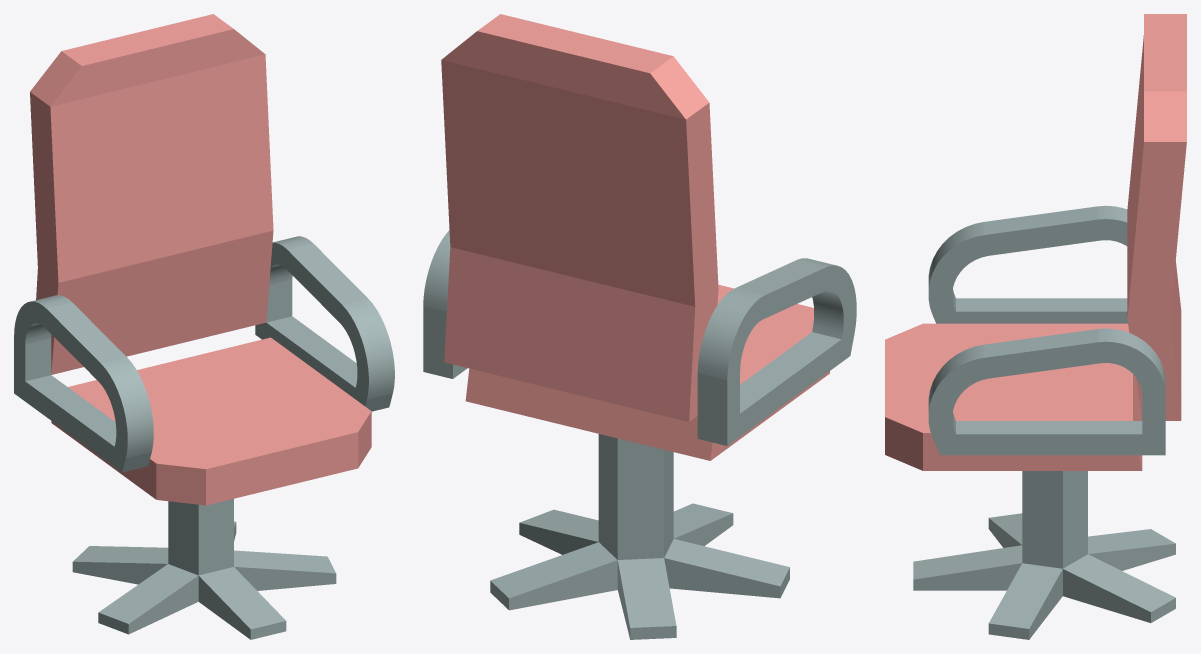
File: chairDesk.glb
3 views of the same model, side by side, from view 1: azimuth 30°, elevation 25°; view 2: azimuth 150°, elevation 25°; view 3: azimuth 270°, elevation 25° (orthographic). The views are drawn at different scales.
Visible parts, largest first — view 1: chairDesk.001, chairDesk; view 2: chairDesk.001, chairDesk; view 3: chairDesk.001, chairDesk.
Boxes of the visible parts, bbox=[...] form: chairDesk.001: bbox=[14, 14, 394, 505]; chairDesk: bbox=[72, 499, 336, 639]; chairDesk.001: bbox=[423, 14, 856, 460]; chairDesk: bbox=[490, 434, 789, 639]; chairDesk.001: bbox=[885, 14, 1186, 470]; chairDesk: bbox=[913, 471, 1175, 639].
Size of the model in its own units: 0.9714 by 1.76 by 0.9115.
